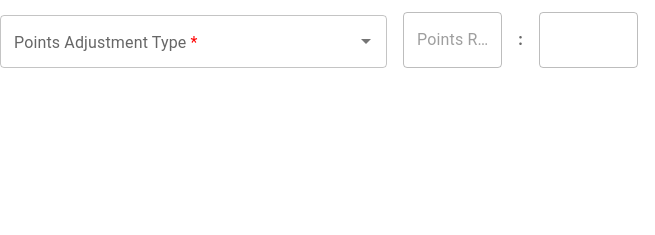
Test: PointsAdjustmentTypeField › enables ratio inputs only when Other is selected
The width and height of the screenshot is (655, 235).
Check: the field labelled "Points Ratio" is disabled, box [403,12,502,68]
Check: the 2nd field is disabled, box [539,12,638,68]
Step 1. Click the dropdown → point(179, 41), box [9,24,348,59]
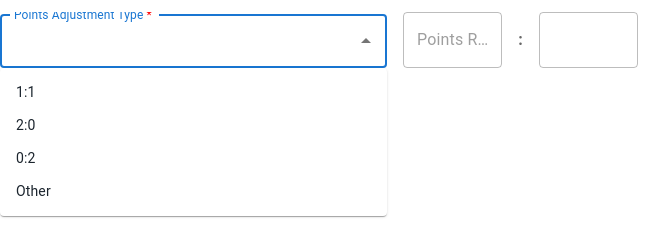
Step 2. Click the option "Other" → point(33, 191), box [16,183,51,199]
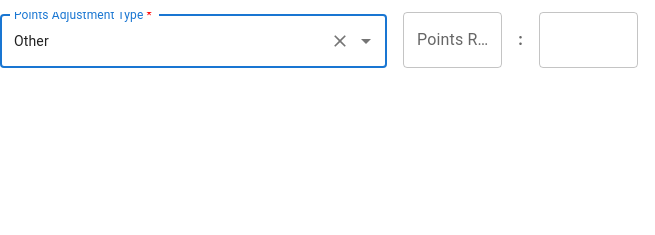
Check: the 2nd field is enabled, box [539,12,638,68]
Check: the field labelled "Points Ratio" is enabled, box [403,12,502,68]
